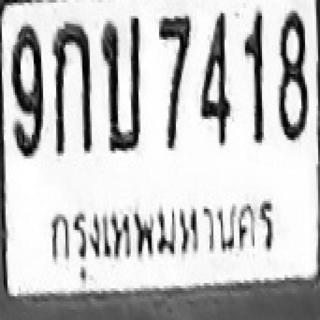A01: (51, 22, 93, 155)
A26: (100, 14, 141, 152)
N01: (242, 9, 265, 144)
N04: (199, 10, 231, 146)
N07: (157, 13, 191, 151), (157, 13, 191, 108)
N08: (277, 9, 307, 141)
N09: (10, 22, 44, 158)
P04: (45, 194, 285, 279)
